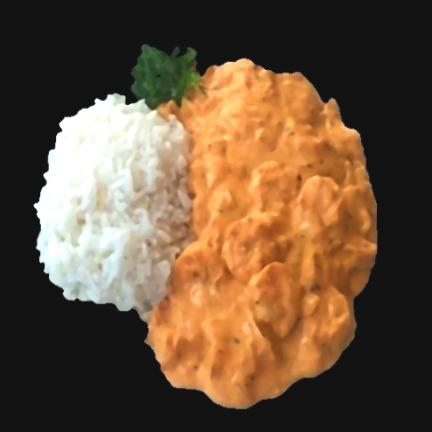chicken: (148, 62, 377, 407)
rice: (35, 94, 191, 319)
